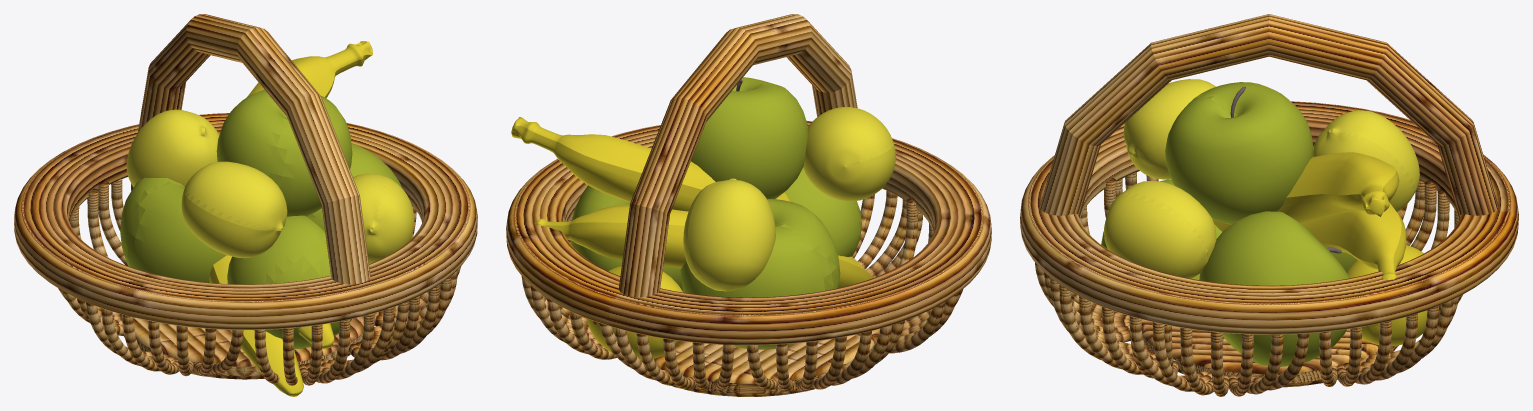
Rendered from backet.fbx.
3 views of the same model, side by side, from view 1: azimuth 30°, elevation 25°; view 2: azimuth 150°, elevation 25°; view 3: azimuth 270°, elevation 25° (orthographic). The views are drawn at different scales.
Visible parts, largest first — view 1: table_de14, table_det1, pTorus1, table_det7, table_de11, table_det9, table_de18, table_det8, table_de24, table_de13, table_de12, table_de20; view 2: table_de14, table_det1, pTorus1, table_de11, table_de18, table_det9, table_det7, table_de13, table_de12, table_det8, table_de20, table_de19; view 3: table_de14, pTorus1, table_det1, table_de11, table_de20, table_de24, table_de13, table_de18, table_de12, table_det7, table_de19.
Part boxes in pixels (x1,y1,x2,y2): table_de14: [14, 113, 477, 330]; table_det1: [58, 179, 461, 385]; pTorus1: [137, 14, 370, 284]; table_det7: [181, 161, 287, 258]; table_de11: [216, 89, 352, 216]; table_det9: [120, 177, 226, 282]; table_de18: [126, 109, 219, 186]; table_det8: [227, 215, 351, 348]; table_de24: [353, 173, 414, 263]; table_de13: [247, 41, 372, 348]; table_de12: [209, 255, 303, 396]; table_de20: [306, 143, 401, 231]; table_de14: [506, 120, 991, 345]; table_det1: [521, 190, 963, 396]; pTorus1: [618, 14, 857, 297]; table_de11: [691, 77, 807, 199]; table_de18: [683, 178, 775, 291]; table_det9: [680, 198, 840, 349]; table_det7: [803, 107, 895, 201]; table_de13: [511, 117, 789, 211]; table_de12: [535, 205, 873, 287]; table_det8: [784, 168, 861, 256]; table_de20: [571, 185, 683, 291]; table_de19: [586, 266, 683, 360]; table_de14: [1020, 101, 1518, 334]; pTorus1: [1039, 14, 1498, 218]; table_det1: [1035, 172, 1462, 396]; table_de11: [1165, 82, 1313, 224]; table_de20: [1199, 211, 1349, 366]; table_de24: [1104, 180, 1216, 278]; table_de13: [1213, 152, 1399, 231]; table_de18: [1312, 110, 1419, 211]; table_de12: [1099, 203, 1406, 312]; table_det7: [1123, 79, 1215, 179]; table_de19: [1346, 245, 1426, 345].
Size of the model in its own units: 9.27 by 6.63 by 9.27.
5 materials, 1 textured.
